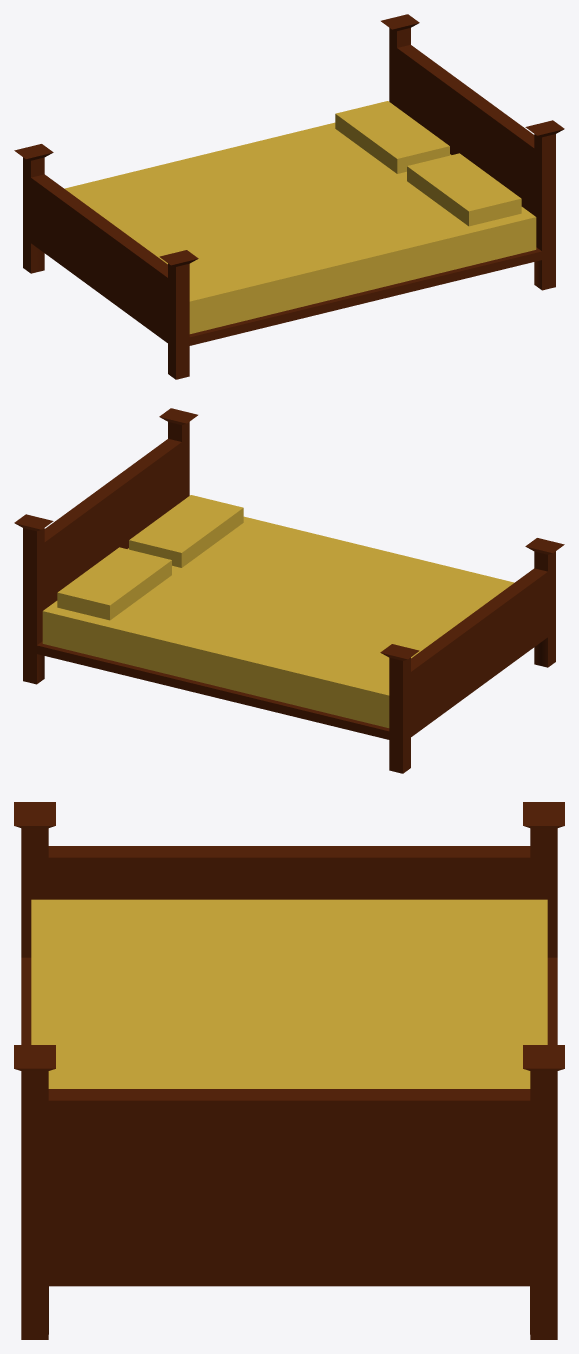
File: Blockout_Bed_02.fbx
3 views of the same model, one above another, from view 1: azimuth 30°, elevation 25°; view 2: azimuth 150°, elevation 25°; view 3: azimuth 270°, elevation 25° (orthographic). The views are drawn at different scales.
Visible parts, largest first — view 1: pCube6; view 2: pCube6; view 3: pCube6.
Boxes of the visible parts, x1,y1,x2,y2 form: pCube6: (14, 14, 564, 379); pCube6: (14, 408, 564, 773); pCube6: (14, 802, 564, 1339).
Size of the model in its own units: 7.48 by 2.87 by 5.16.
